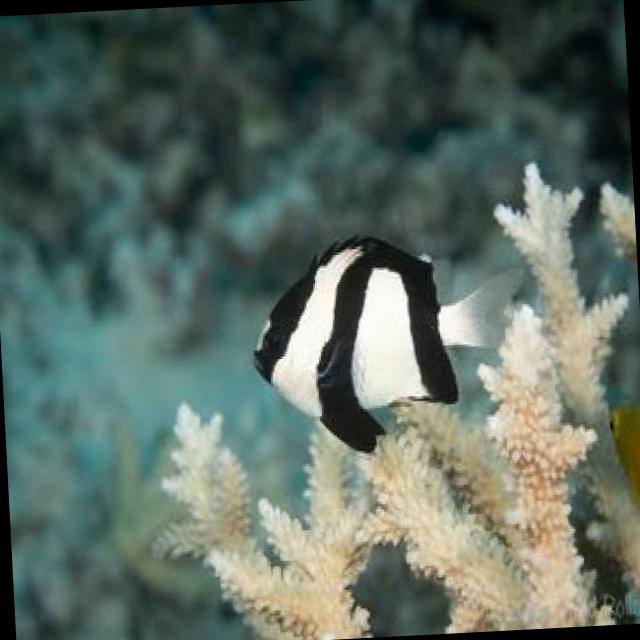Three_striped DasmselFish: (242, 225, 536, 459)
